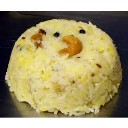venpongal: (9, 17, 123, 113)
